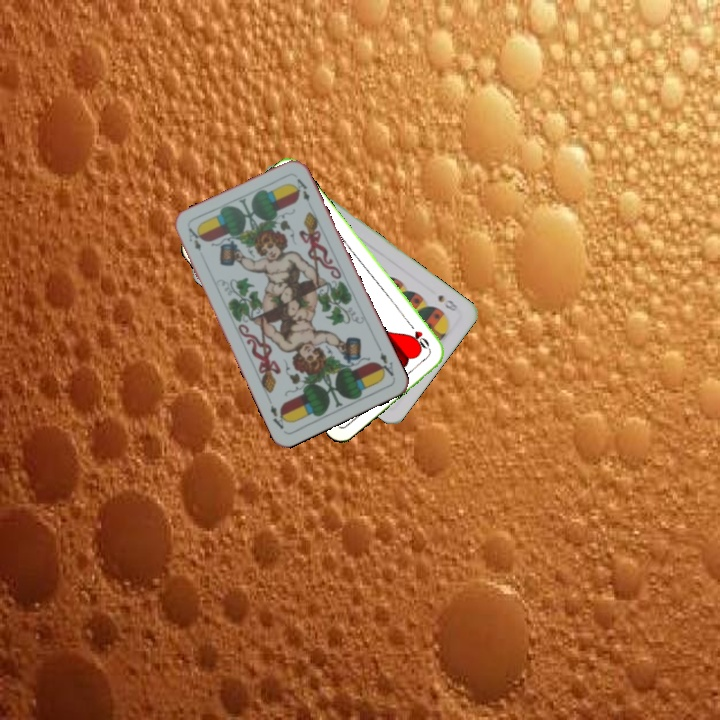EA: (374, 348, 396, 380), (184, 224, 204, 253)
HO: (404, 318, 433, 353)
S8: (434, 290, 460, 314)
